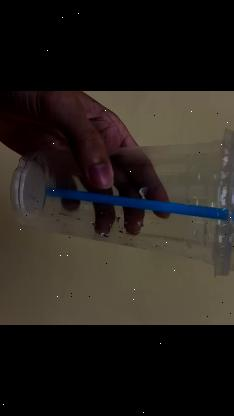Others: (7, 130, 234, 277)
